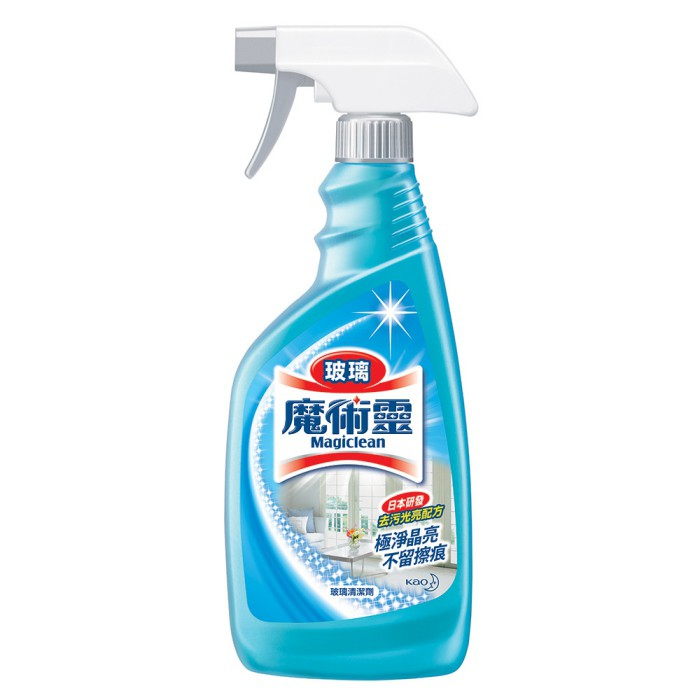cleaner: (212, 24, 483, 682)
